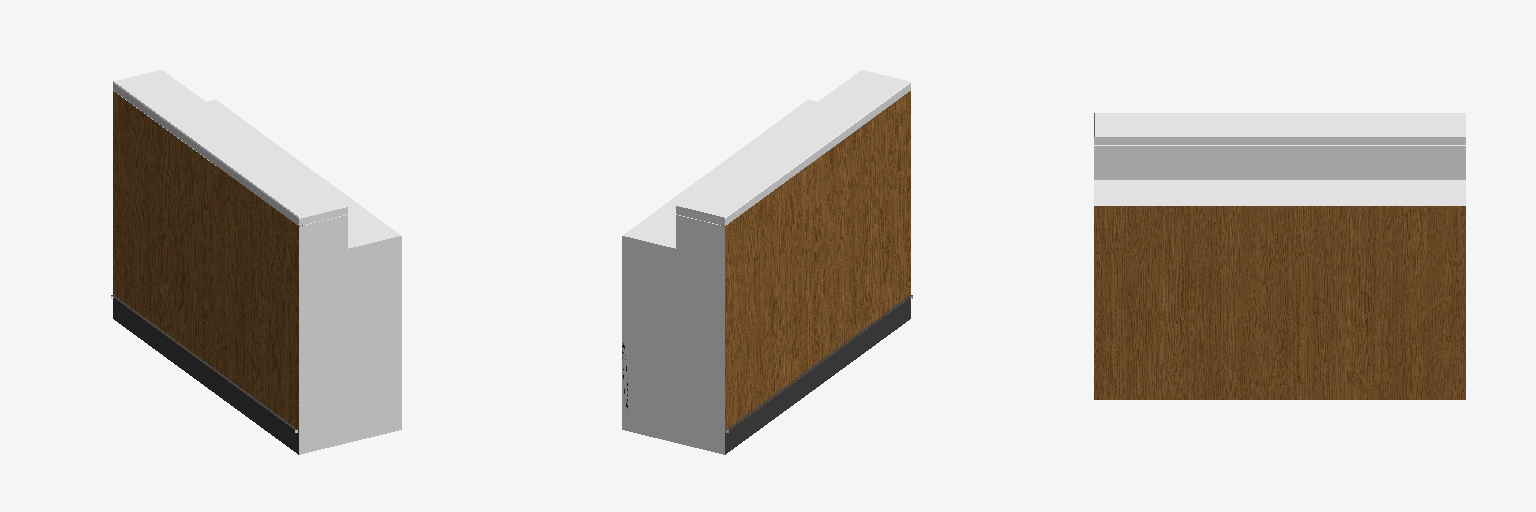
3 views of the same model, side by side, from view 1: azimuth 30°, elevation 25°; view 2: azimuth 150°, elevation 25°; view 3: azimuth 270°, elevation 25° (orthographic).
Visible parts, largest first — view 1: croissant5k:Chocolate_Cake1:croissant5k12:Chocolate_Cake1:Piceri; view 2: croissant5k:Chocolate_Cake1:croissant5k12:Chocolate_Cake1:Piceri; view 3: croissant5k:Chocolate_Cake1:croissant5k12:Chocolate_Cake1:Piceri.
Boxes of the visible parts, x1,y1,x2,y2 form: croissant5k:Chocolate_Cake1:croissant5k12:Chocolate_Cake1:Piceri: [111, 70, 401, 454]; croissant5k:Chocolate_Cake1:croissant5k12:Chocolate_Cake1:Piceri: [622, 70, 912, 454]; croissant5k:Chocolate_Cake1:croissant5k12:Chocolate_Cake1:Piceri: [1094, 113, 1465, 399].
Size of the model in its own units: 0.921 by 1.98 by 2.81.
Materials: 4 (2 with a texture image).